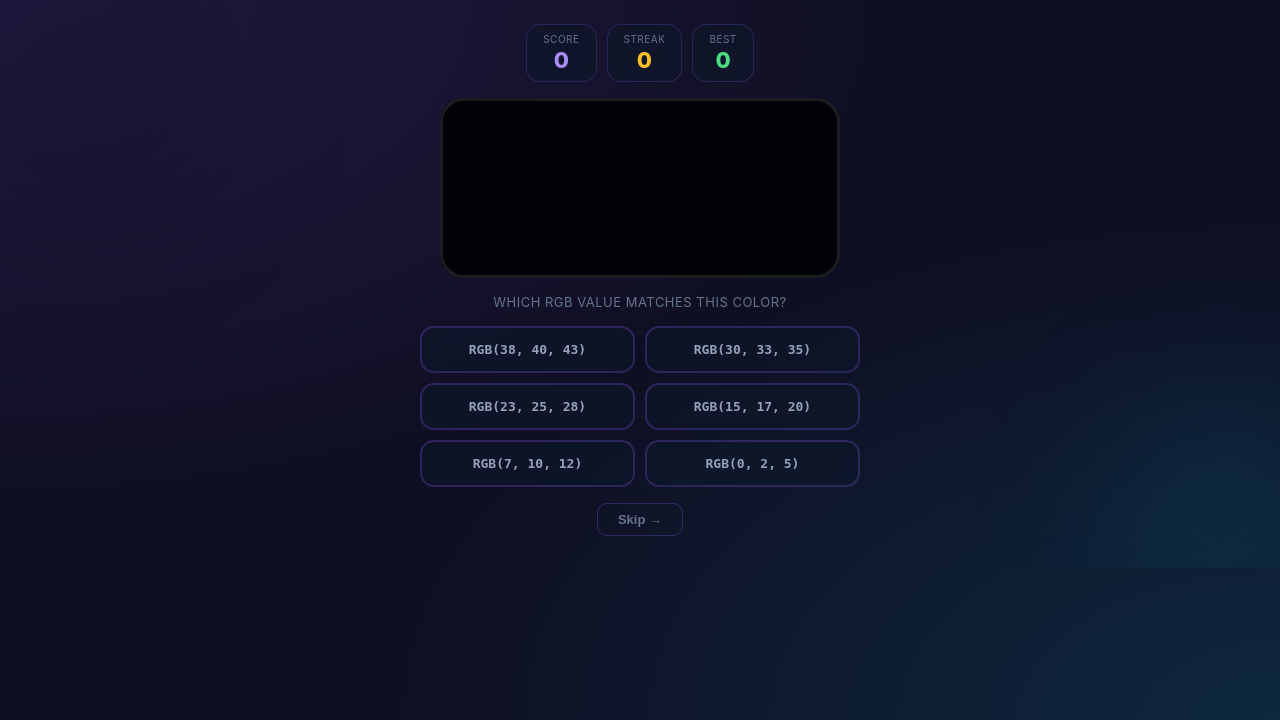
ColorGuessing Component › handles wrong answer selection
Click the button "RGB(0, 2, 5)": (752, 464) [645,440,860,487]
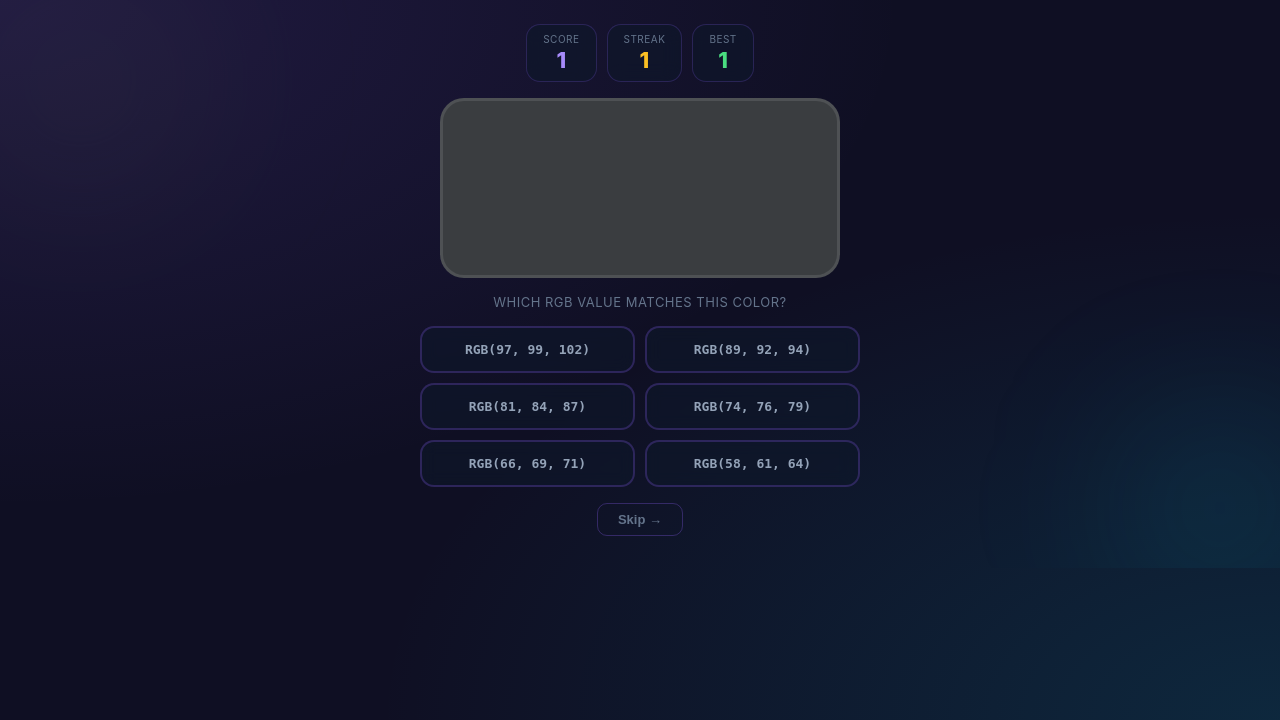
Check: the text "1" below "Streak" is shown, box [640,47,649,73]
Click the button "RGB(97, 99, 102)": (528, 350) [420,326,635,373]
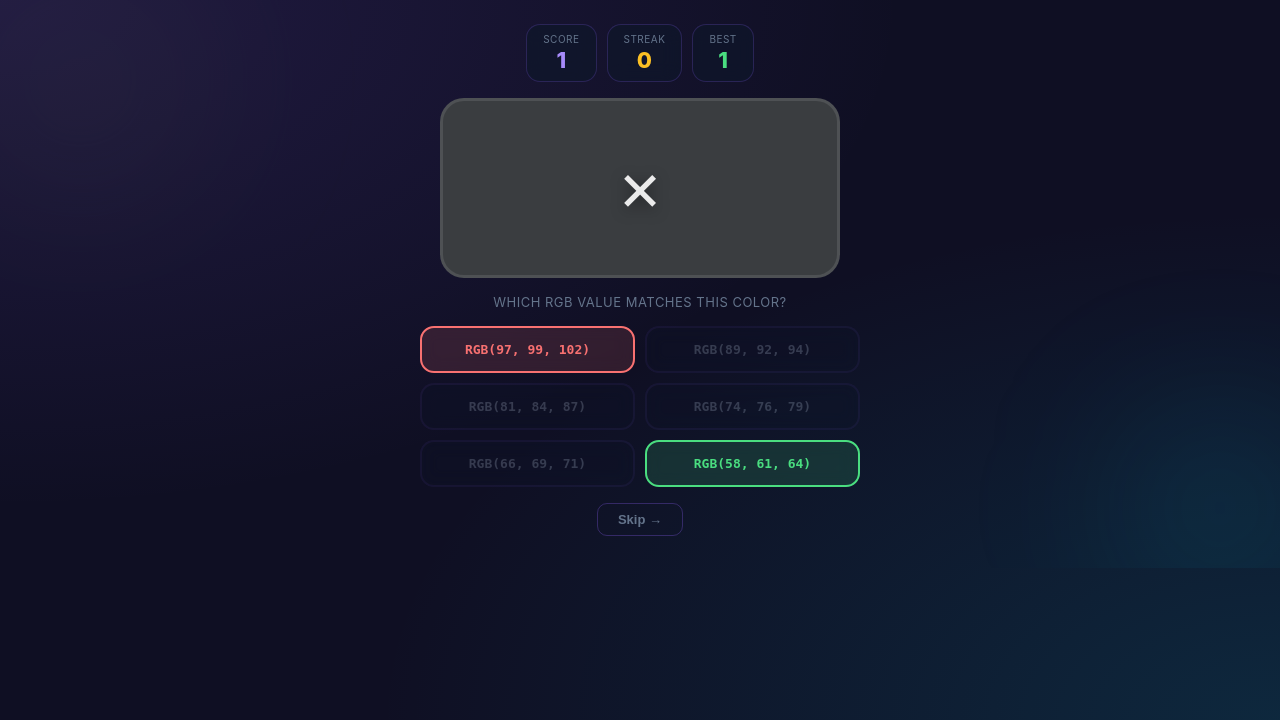
Check: the text "0" is shown, box [637,47,652,73]
